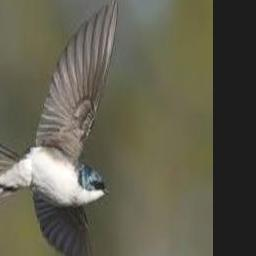Swallow: (0, 0, 120, 256)
